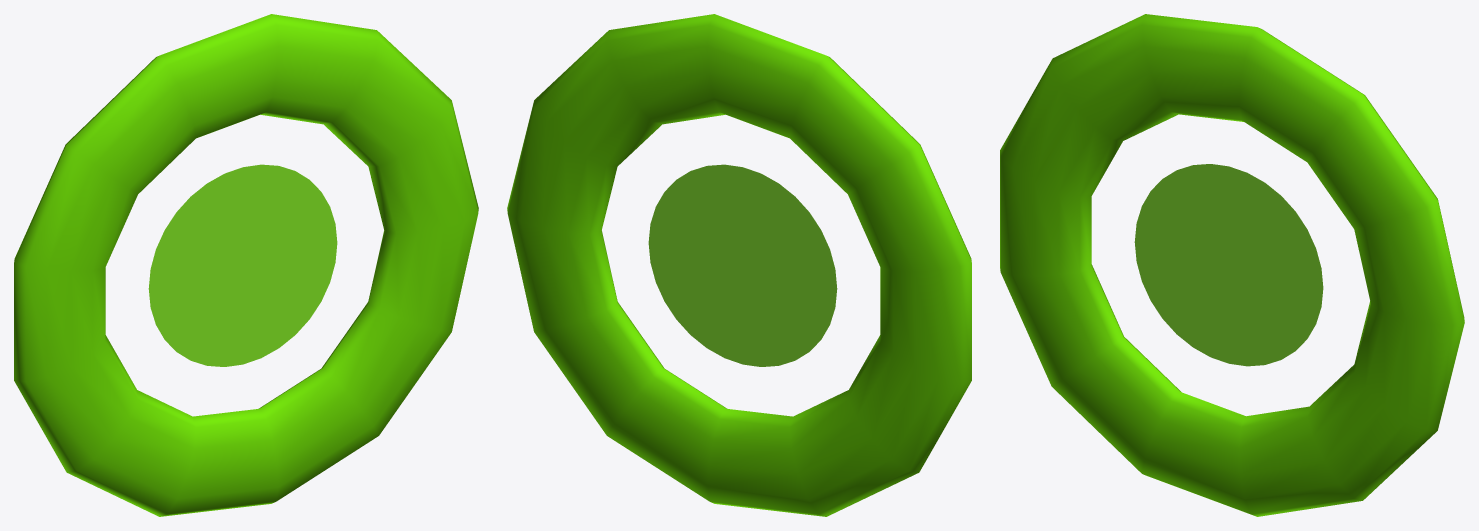
File: lifeup.glb
3 views of the same model, side by side, from view 1: azimuth 30°, elevation 25°; view 2: azimuth 150°, elevation 25°; view 3: azimuth 330°, elevation 25° (orthographic).
Parts seen in each view (by area): view 1: Torus, Circle; view 2: Torus, Circle; view 3: Torus, Circle.
Part boxes in pixels (x1,y1,x2,y2): Torus: (14, 14, 478, 516); Circle: (148, 164, 337, 366); Torus: (507, 14, 971, 516); Circle: (648, 164, 837, 366); Torus: (1000, 14, 1464, 516); Circle: (1134, 164, 1323, 366).
Bounding box in the file's own units: 2.46 × 2.48 × 0.2082.
